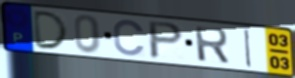0: (72, 13, 103, 55)
C: (112, 18, 147, 58)
D: (32, 9, 71, 51)
I: (243, 28, 253, 69)
P: (148, 20, 186, 61)
R: (193, 25, 231, 66)
